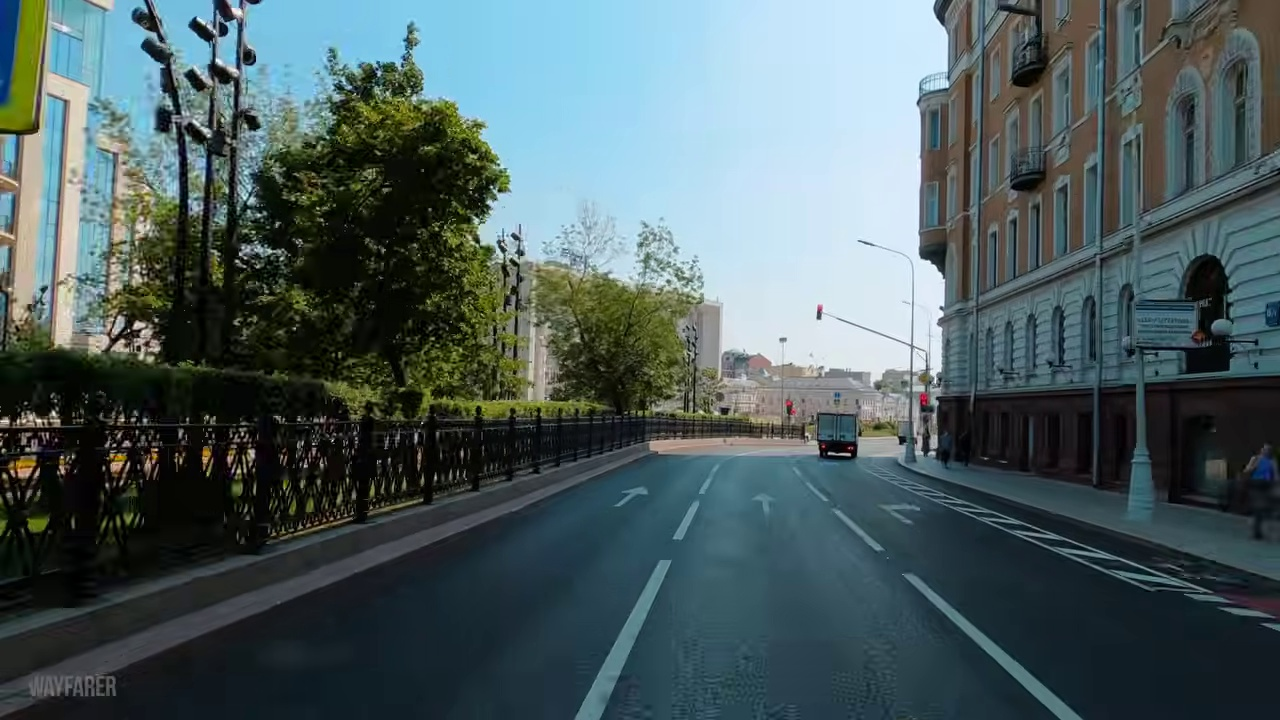apagada: (854, 234, 878, 254)
